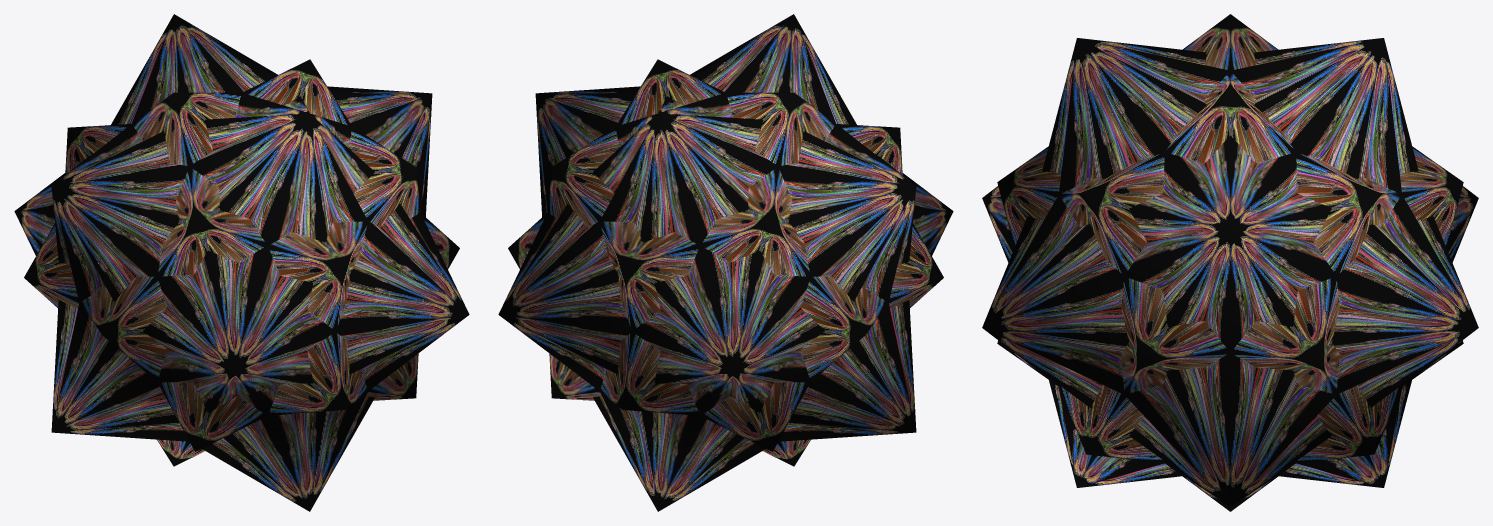
The model's file is GreatDodecacronicHexecontahedron9.gltf.
The picture shows the model from 3 angles, left to right: view 1: azimuth 30°, elevation 25°; view 2: azimuth 150°, elevation 25°; view 3: azimuth 270°, elevation 25°; orthographic projection. The views are drawn at different scales.
Visible parts, largest first — view 1: GreatDodecacronicHexecontahedron9; view 2: GreatDodecacronicHexecontahedron9; view 3: GreatDodecacronicHexecontahedron9.
Part boxes in pixels (left/top/right/bottom): GreatDodecacronicHexecontahedron9: left=14, top=14, right=469, bottom=511; GreatDodecacronicHexecontahedron9: left=498, top=14, right=953, bottom=511; GreatDodecacronicHexecontahedron9: left=982, top=14, right=1478, bottom=511.
Bounding box in the file's own units: 1.24 × 1.24 × 1.24.
Materials: 1 (1 with a texture image).
